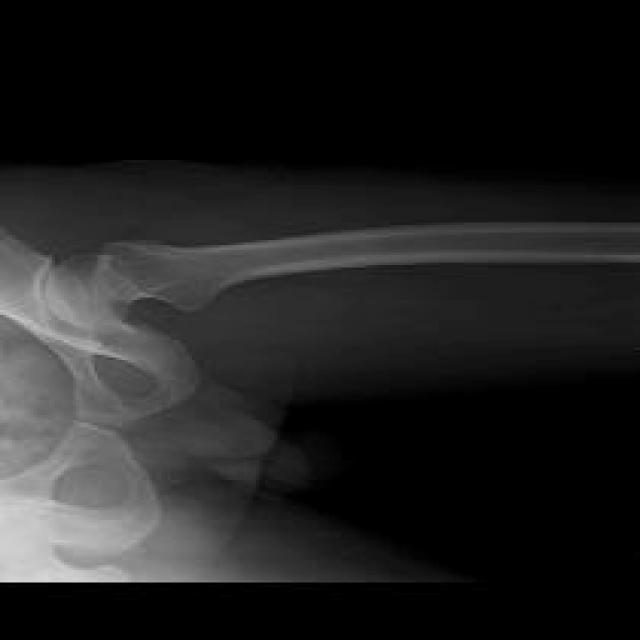normal: (0, 223, 636, 422), (0, 420, 158, 587)
